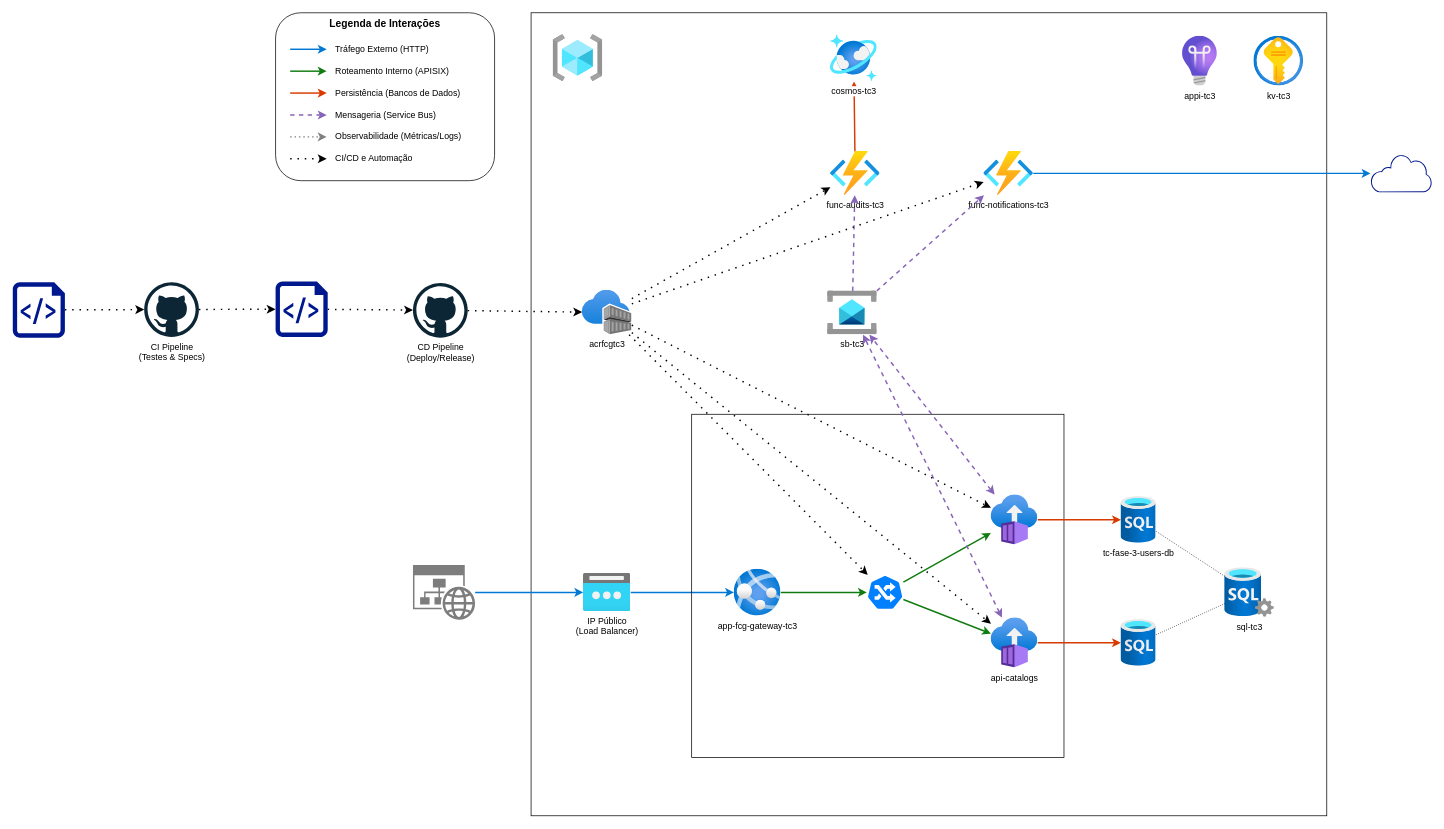
Some shapes in this 1444 by 829 pixel diagram are drawn without their labels. The centre of each missing label's shape, as x and y in pixels:
api-users: the point at 1014,519
apisix (Gateway): the point at 884,592
client: the point at 444,592
email-sender: the point at 1400,173
Push / PR: the point at 38,309
Push Tag: the point at 301,309
rg-tc3: the point at 577,57
tc-fase-3-catalogs-db: the point at 1138,642
